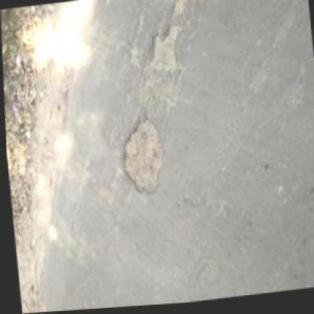Hueco: (116, 118, 166, 199), (142, 25, 186, 78)
